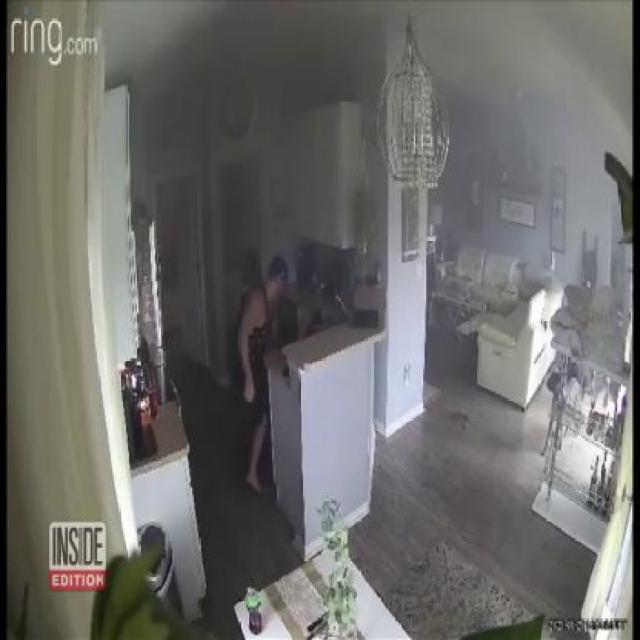smoke: (133, 6, 356, 88), (454, 22, 622, 126)
